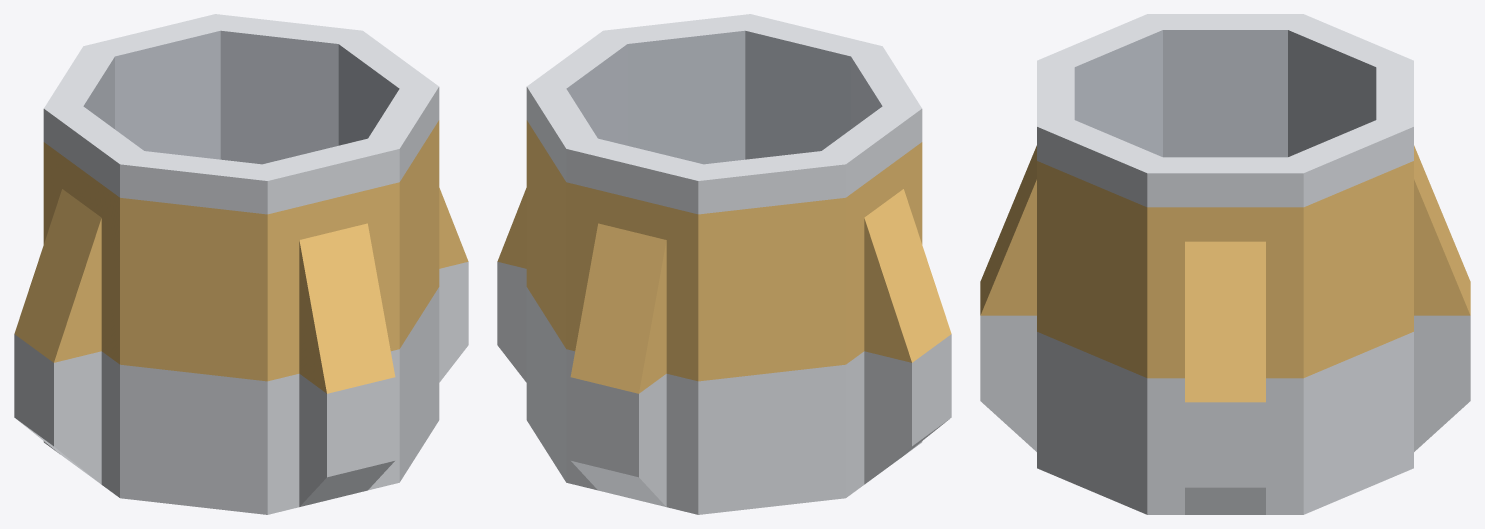
Rendered from rocket_sidesB.glb.
3 renders of one model, left to right at view 1: azimuth 30°, elevation 25°; view 2: azimuth 150°, elevation 25°; view 3: azimuth 270°, elevation 25°, orthographic. The views are drawn at different scales.
Visible parts, largest first — view 1: rocket_sidesB; view 2: rocket_sidesB; view 3: rocket_sidesB.
Part boxes in pixels (x1=…): rocket_sidesB: x1=14, y1=14, x2=468, y2=514; rocket_sidesB: x1=497, y1=14, x2=951, y2=514; rocket_sidesB: x1=980, y1=14, x2=1470, y2=514.
Bounding box in the file's own units: 1.3 × 1 × 1.3.
